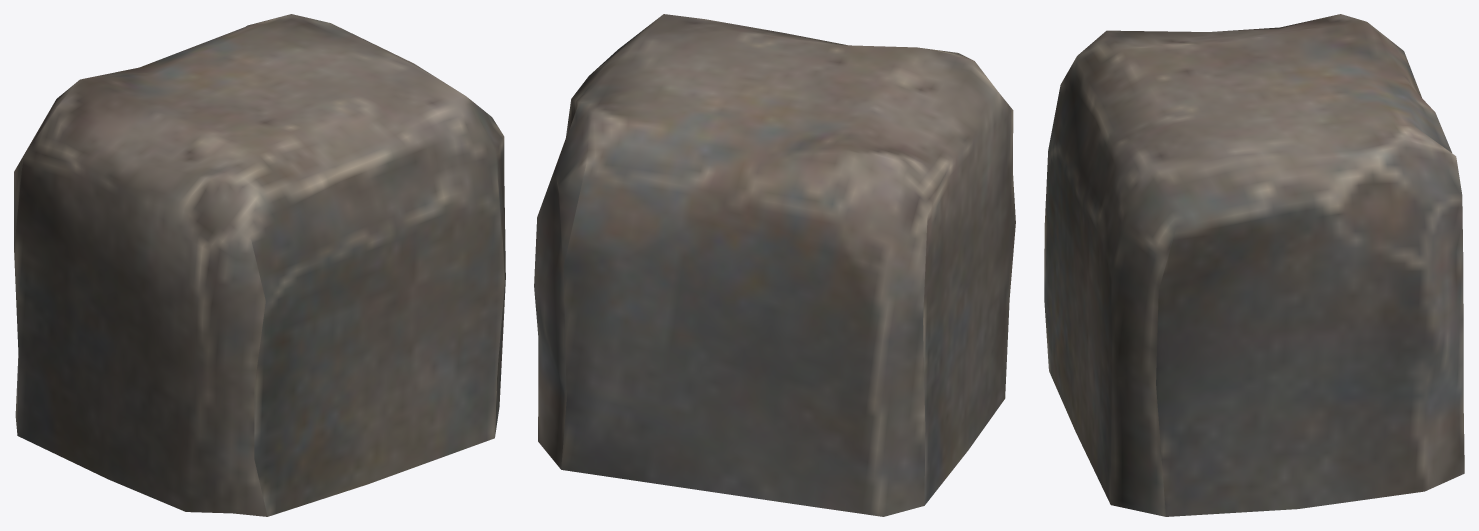
File: Rock_A4.fbx
3 renders of one model, left to right at view 1: azimuth 30°, elevation 25°; view 2: azimuth 150°, elevation 25°; view 3: azimuth 270°, elevation 25°, orthographic. The views are drawn at different scales.
Parts seen in each view (by area): view 1: Rock_A4__3_; view 2: Rock_A4__3_; view 3: Rock_A4__3_.
Boxes of the visible parts, box(x1,y1,x2,y2) form: Rock_A4__3_: box(14, 14, 505, 516); Rock_A4__3_: box(534, 14, 1015, 516); Rock_A4__3_: box(1044, 14, 1464, 516).
Bounding box in the file's own units: 0.2172 × 0.1783 × 0.1995.
